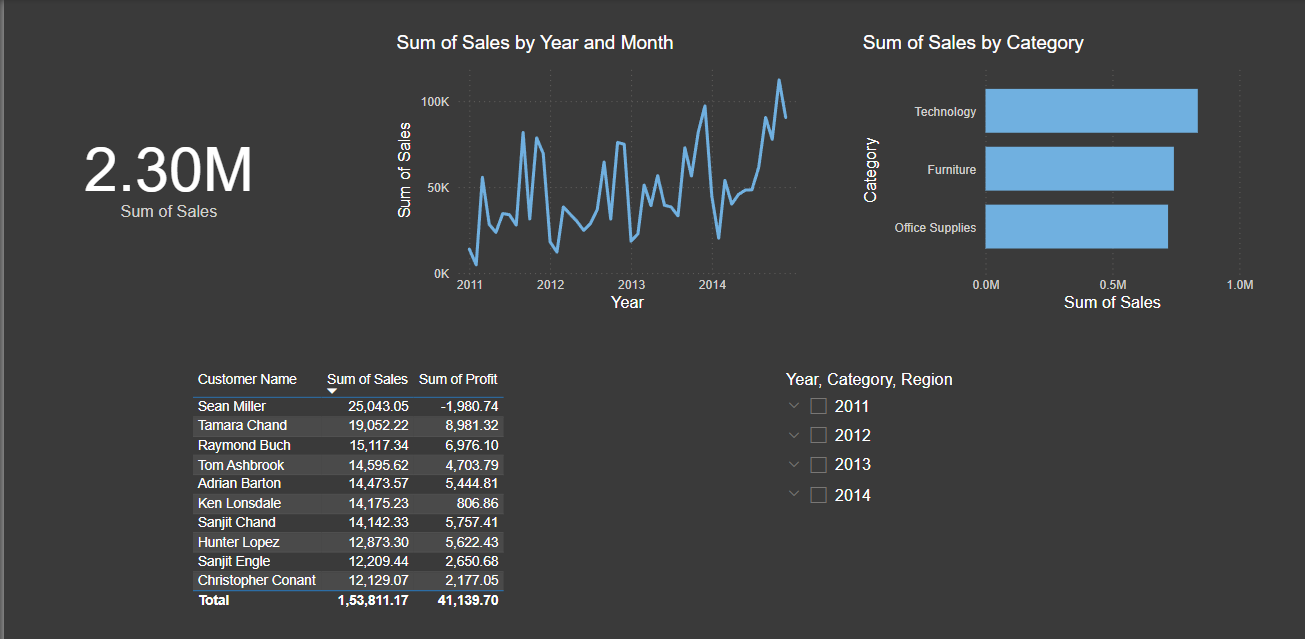

What the dashboard file says about the page in this screenshot:
{"tool":"powerbi","page":{"name":"Page 1","canvas":[1280,720],"ordinal":0},"visuals":[{"type":"card","fields":{"Values":["Orders.Sales"]},"box":[22,31.6,279.9,279.9],"z":0},{"type":"lineChart","fields":{"Y":["Orders.Sales"],"Category":["Orders.Order Date.Variation.Date Hierarchy.Year","Orders.Order Date.Variation.Date Hierarchy.Month"]},"box":[380.1,31.6,406.2,279.9],"z":1},{"type":"barChart","fields":{"Category":["Orders.Category"],"Y":["Orders.Sales"]},"box":[838.4,31.6,393.8,279.9],"z":2},{"type":"tableEx","fields":{"Values":["Orders.Customer Name","Orders.Sales","Orders.Profit"]},"box":[178.8,360,322.5,272.5],"z":3},{"type":"slicer","fields":{"Values":["Orders.Order Date.Variation.Date Hierarchy.Year","Orders.Category","Orders.Region"]},"box":[755,360,250,280],"z":4}]}

Visuals, with their boxes on the page's 1280x720 design canvas (x1, y1, x2, y2). These are canvas units, not pixel positions in the 1305x639 screenshot, which may show the page scaled, cropped or inside an application window:
card - Orders.Sales: 22,32,302,312
lineChart - Orders.Sales x Orders.Order Date.Variation.Date Hierarchy.Year: 380,32,786,312
barChart - Orders.Category x Orders.Sales: 838,32,1232,312
tableEx - Orders.Customer Name x Orders.Sales: 179,360,501,632
slicer - Orders.Order Date.Variation.Date Hierarchy.Year x Orders.Category: 755,360,1005,640
